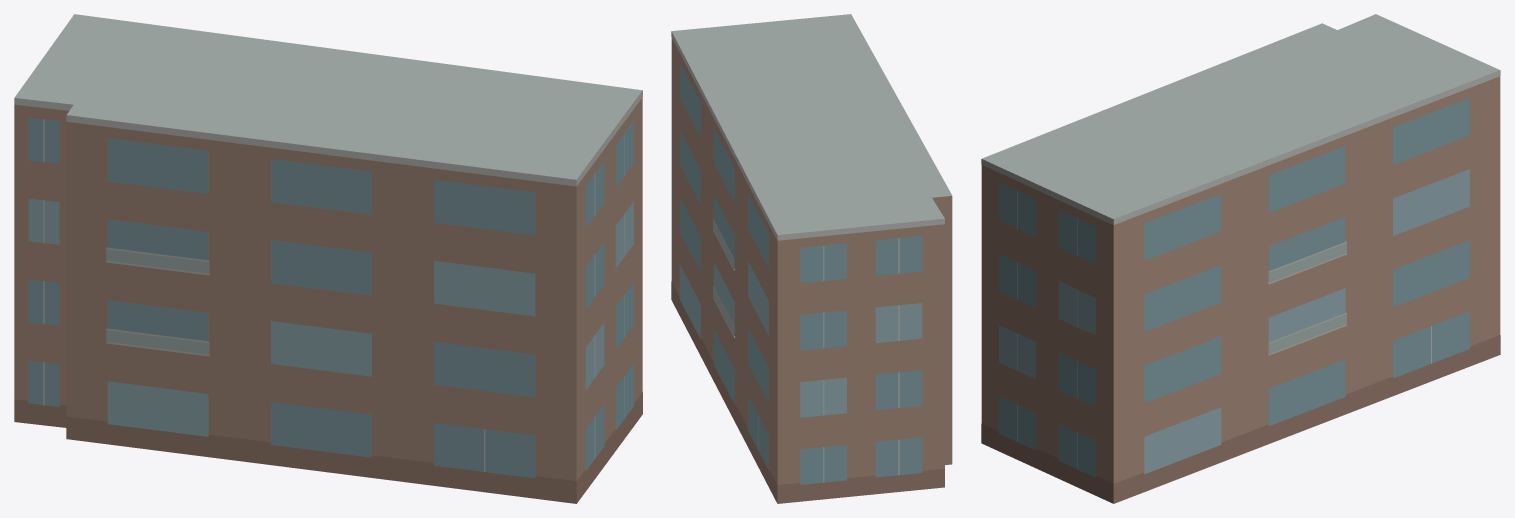
The model's file is survey-upis-32563204.glb.
The picture shows the model from 3 angles, left to right: view 1: azimuth 30°, elevation 25°; view 2: azimuth 150°, elevation 25°; view 3: azimuth 270°, elevation 25°; orthographic projection. The views are drawn at different scales.
Visible parts, largest first — view 1: survey-upis-32563204.tmp; view 2: survey-upis-32563204.tmp; view 3: survey-upis-32563204.tmp.
Part boxes in pixels (<box>): survey-upis-32563204.tmp: <box>14,14,642,503</box>; survey-upis-32563204.tmp: <box>671,14,952,503</box>; survey-upis-32563204.tmp: <box>981,14,1500,503</box>.
Size of the model in its own units: 18.27 by 11.8 by 19.51.
